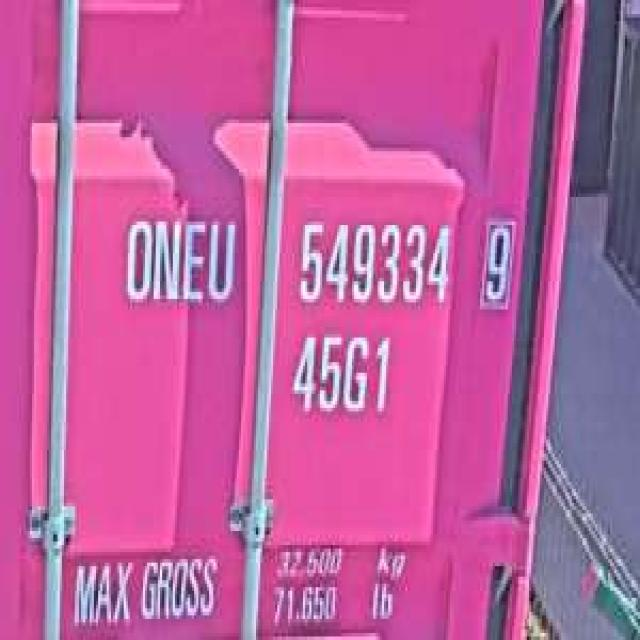dv: (476, 214, 516, 306)
owner: (119, 211, 239, 309)
serial: (292, 207, 452, 313)
size: (286, 327, 395, 422)
